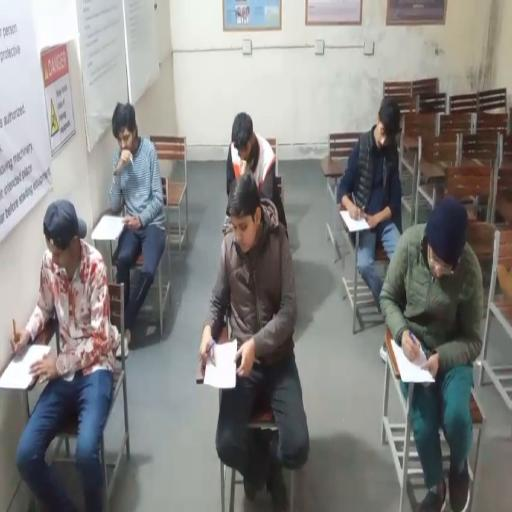paper: (0, 345, 50, 389), (392, 340, 434, 382), (204, 341, 236, 389), (92, 216, 124, 241), (340, 211, 369, 232)
